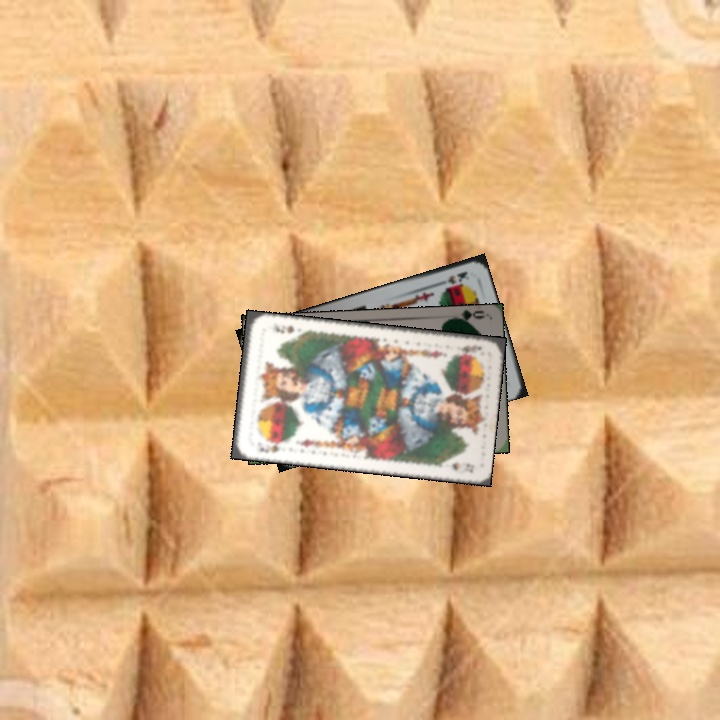GO: (446, 308, 486, 328)
SK: (434, 267, 470, 288), (255, 437, 288, 456), (458, 340, 484, 358)
